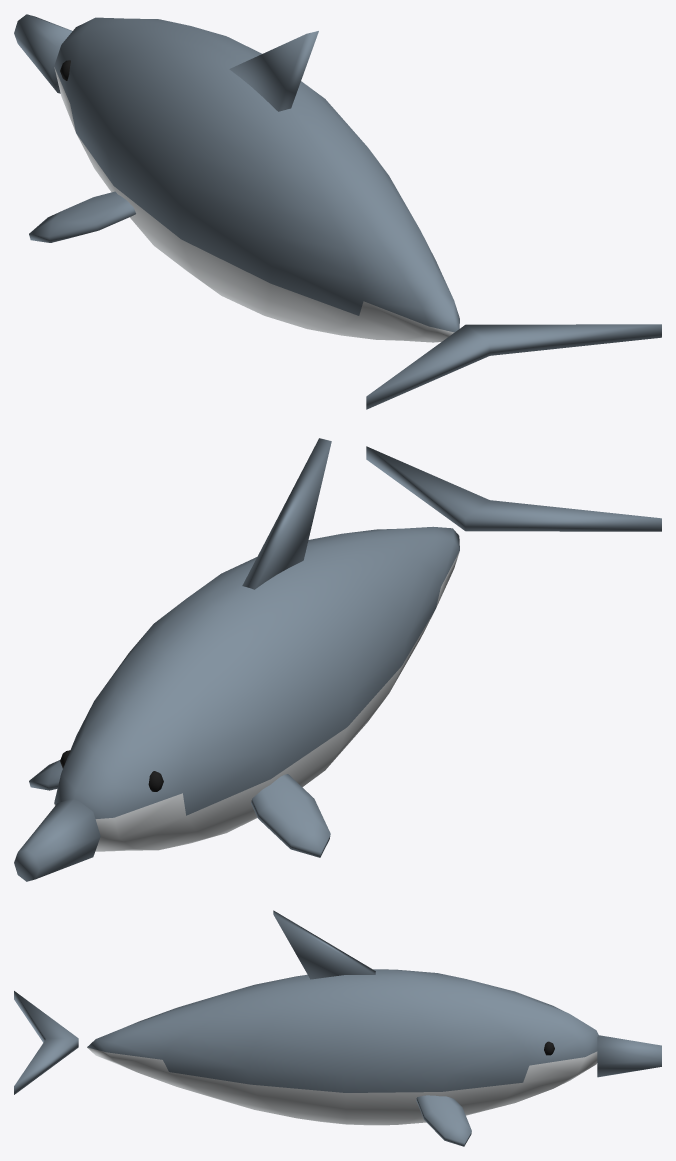
File: sea-dolphin.glb
3 renders of one model, top to bottom at view 1: azimuth 30°, elevation 25°; view 2: azimuth 150°, elevation 25°; view 3: azimuth 270°, elevation 25°, orthographic. The views are drawn at different scales.
Parts seen in each view (by area): view 1: body; view 2: body; view 3: body.
Part boxes in pixels (bbox=[...]): body: bbox=[14, 14, 661, 409]; body: bbox=[14, 438, 661, 881]; body: bbox=[14, 910, 661, 1146].
Bounding box in the file's own units: 1.4 × 1.4 × 4.
